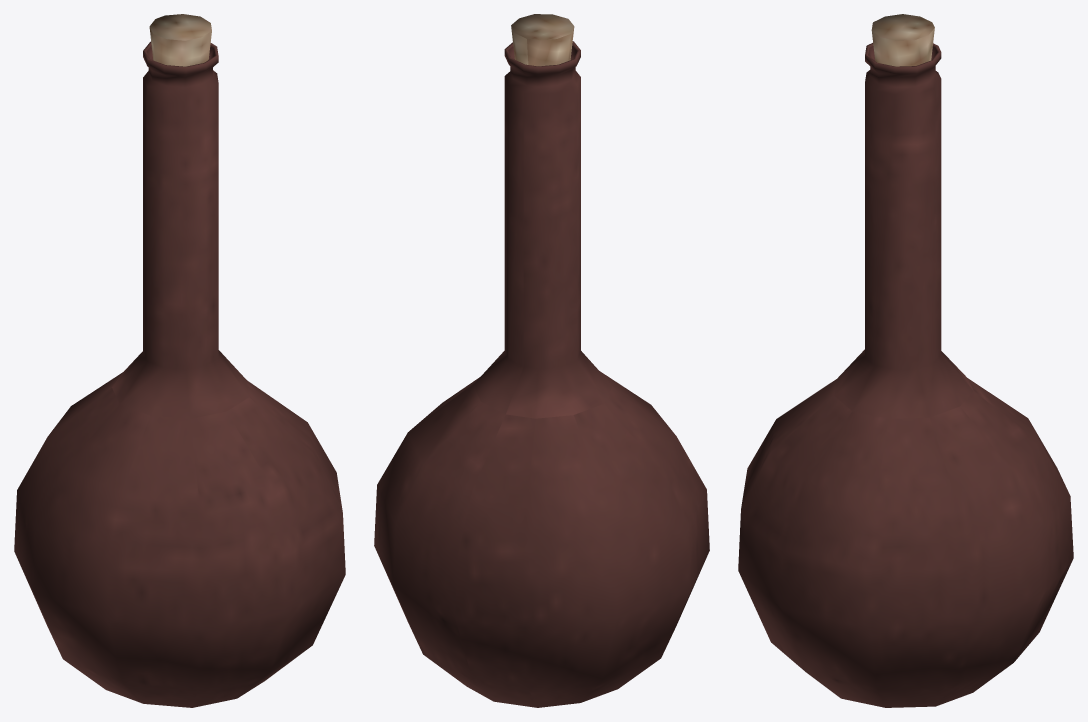
Rendered from MS_Bottle_2c.fbx.
The picture shows the model from 3 angles, left to right: view 1: azimuth 30°, elevation 25°; view 2: azimuth 150°, elevation 25°; view 3: azimuth 270°, elevation 25°; orthographic projection.
Visible parts, largest first — view 1: MSH_Bottle_02; view 2: MSH_Bottle_02; view 3: MSH_Bottle_02.
Part boxes in pixels (x1,y1,x2,y2): MSH_Bottle_02: (14, 14, 345, 707); MSH_Bottle_02: (374, 14, 709, 707); MSH_Bottle_02: (738, 14, 1073, 707).
Size of the model in its own units: 8.04 by 17.08 by 8.05.
